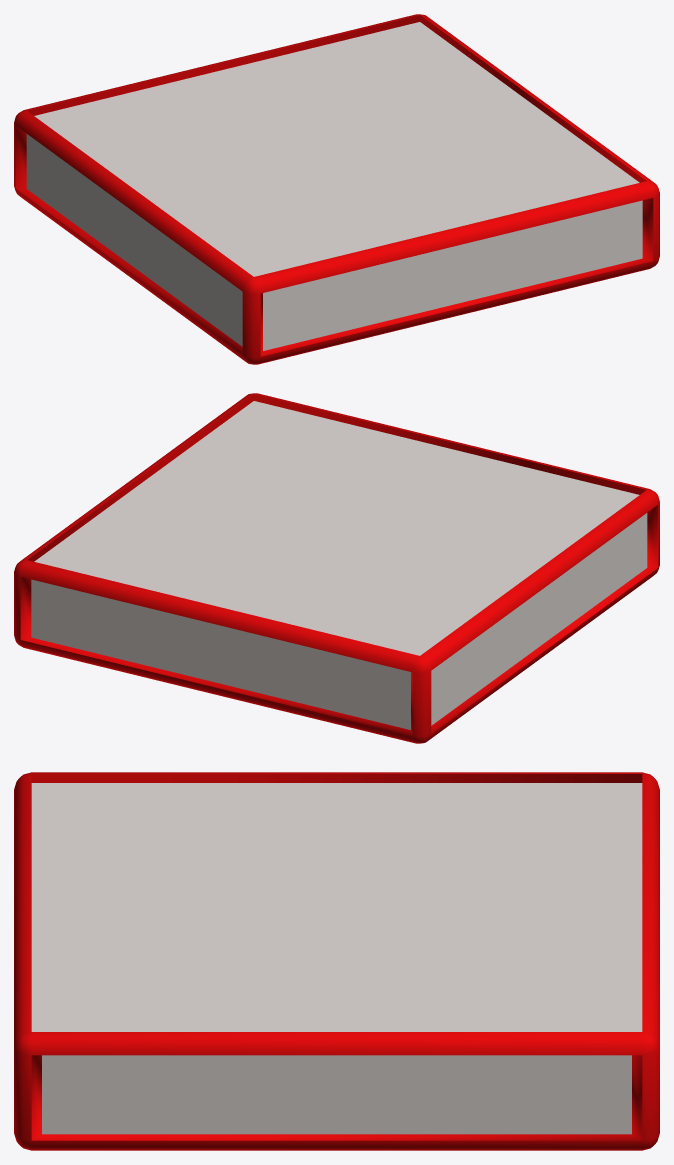
The picture shows the model from 3 angles, top to bottom: view 1: azimuth 30°, elevation 25°; view 2: azimuth 150°, elevation 25°; view 3: azimuth 270°, elevation 25°; orthographic projection. The views are drawn at different scales.
Visible parts, largest first — view 1: Cube_0.2; view 2: Cube_0.2; view 3: Cube_0.2.
Boxes of the visible parts, x1,y1,x2,y2 form: Cube_0.2: (14, 14, 659, 364); Cube_0.2: (14, 393, 659, 743); Cube_0.2: (14, 772, 659, 1150).
Size of the model in its own units: 100 by 20 by 100.
